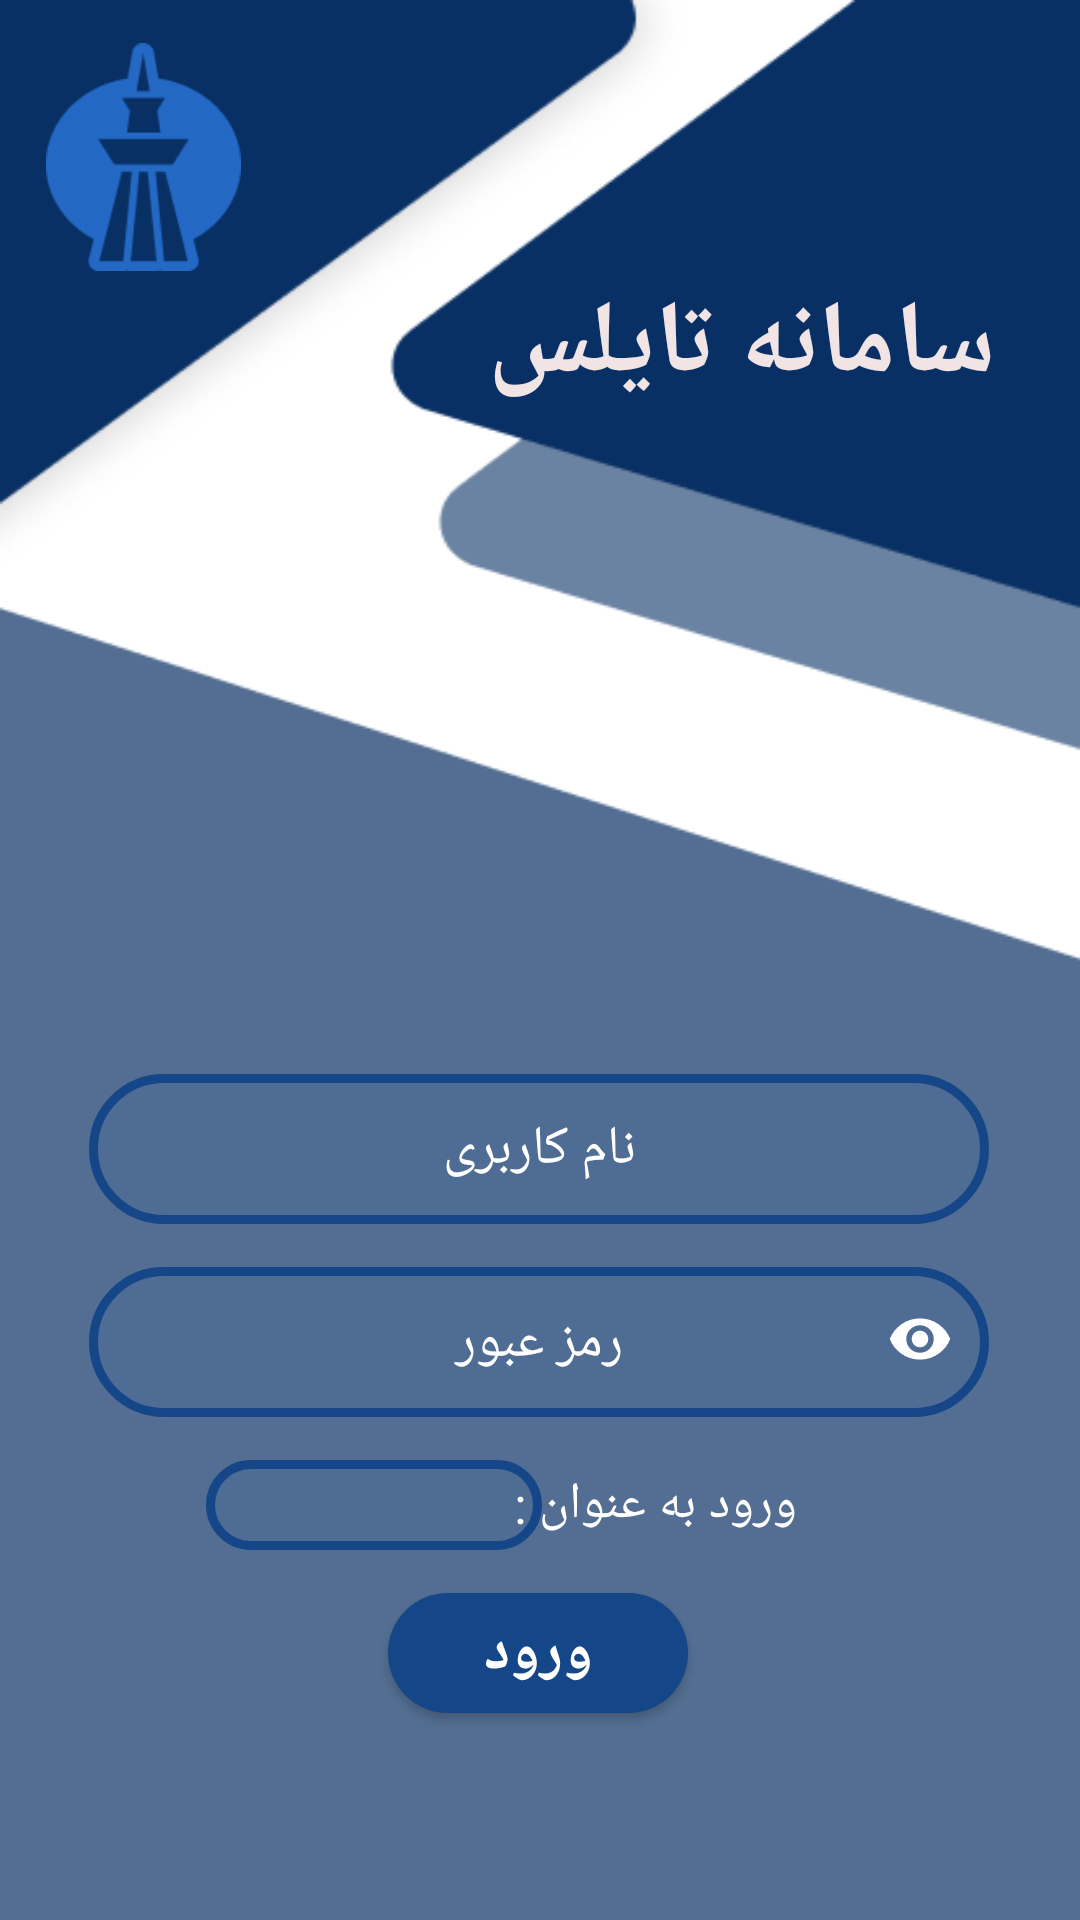

Icon bounding boxes for this 1080px x 1920px phone screenshot, format [x1, y1, x2, y2]:
remove eye: [890, 1318, 950, 1360]
